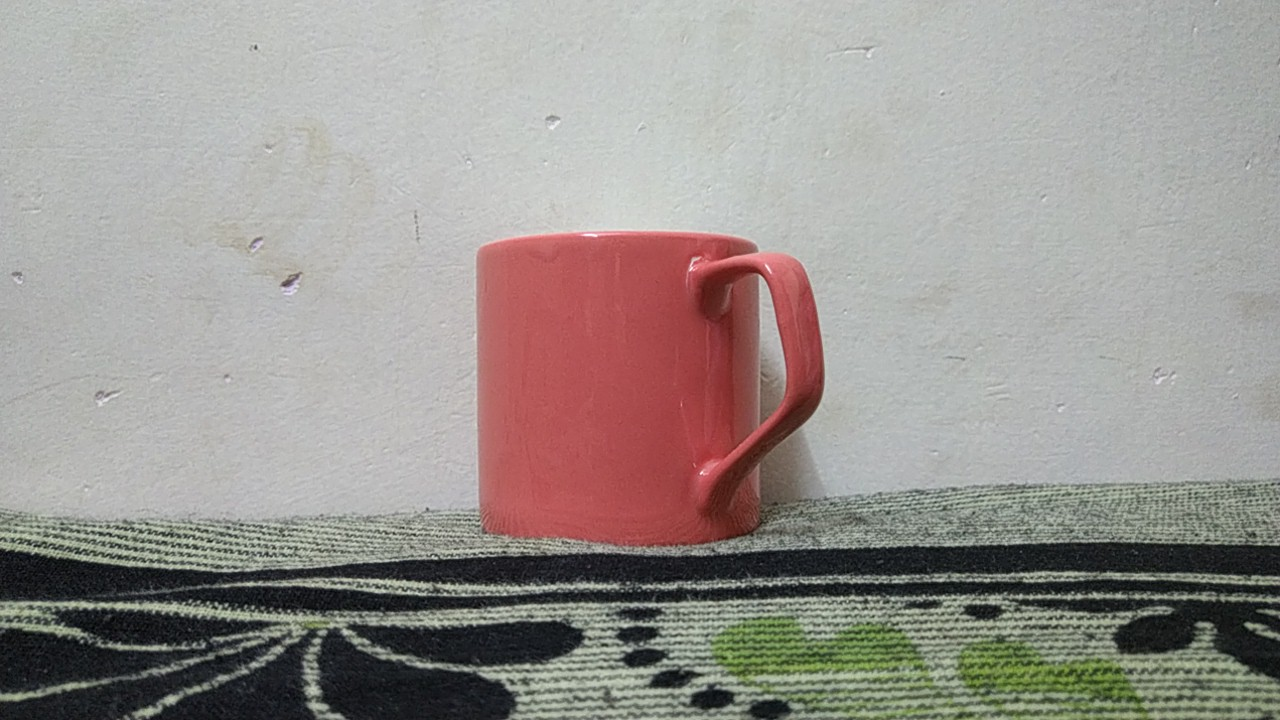cup: (462, 220, 832, 565)
